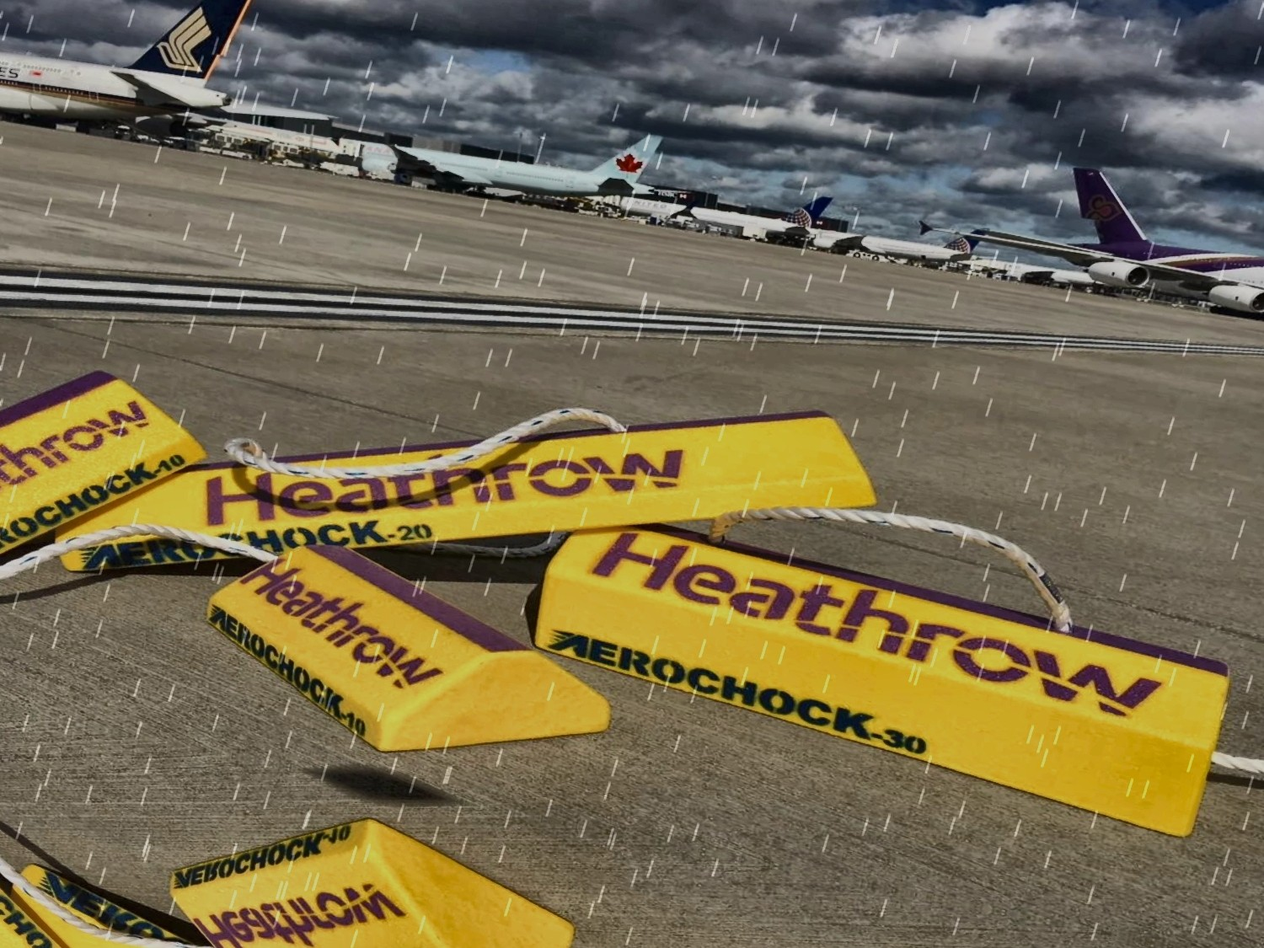chock: (26, 251, 898, 719), (516, 481, 1256, 843), (185, 516, 633, 799), (151, 777, 589, 948), (0, 307, 222, 631), (0, 857, 784, 948), (0, 781, 159, 948)
